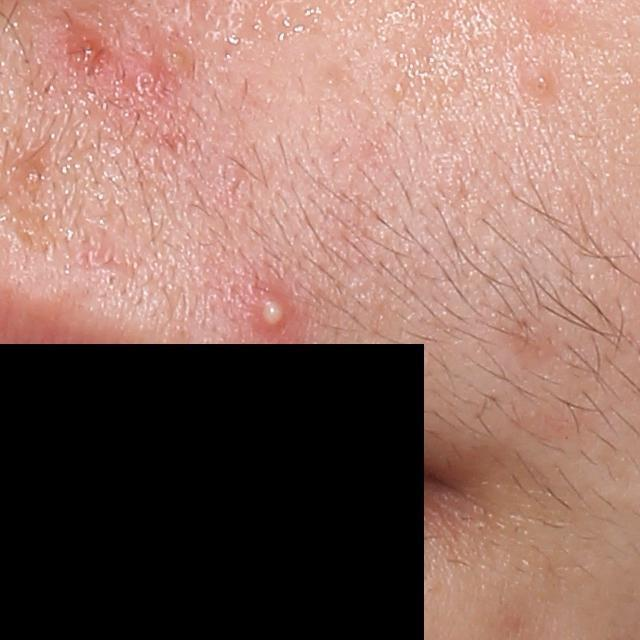comedo: (130, 66, 168, 102), (529, 68, 560, 102)
papule: (64, 32, 102, 72)
pustule: (246, 281, 296, 332)
